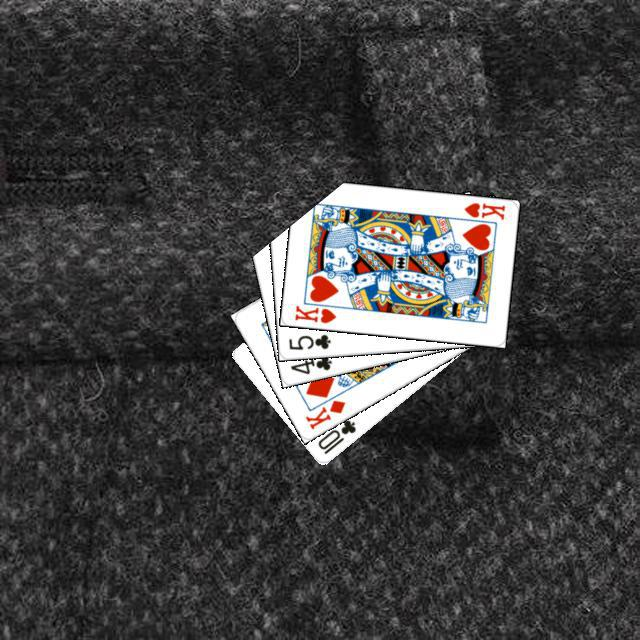10c: (313, 415, 358, 456)
4c: (286, 351, 334, 376)
5c: (284, 329, 332, 352)
Kd: (300, 395, 347, 431)
Kh: (290, 295, 343, 325), (459, 198, 507, 221)
